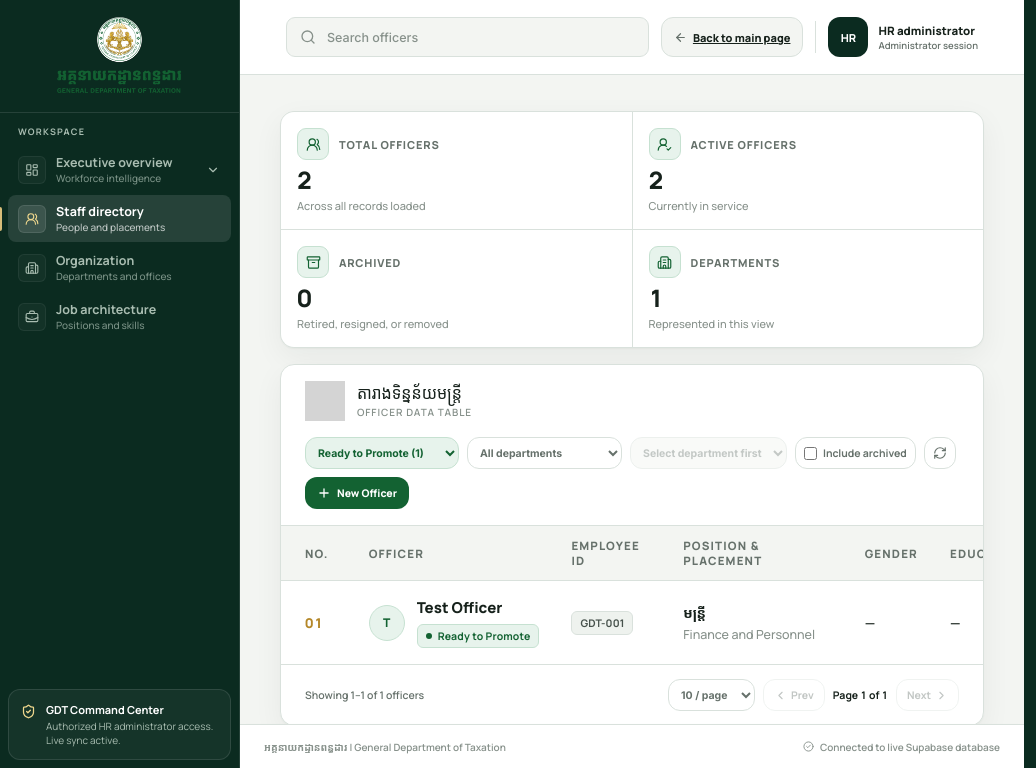
Test: Staff Directory › applies the Ready to Promote URL filter and can clear it
The image size is (1036, 768).
Expected: the text "Not Ready Officer" is not shown
Expected: the text "Test Officer" is shown, [417,597,502,618]
Select "All promotion statuses" in the dropdown named "Filter by promotion readiness": [382, 453] box [305,437,459,469]
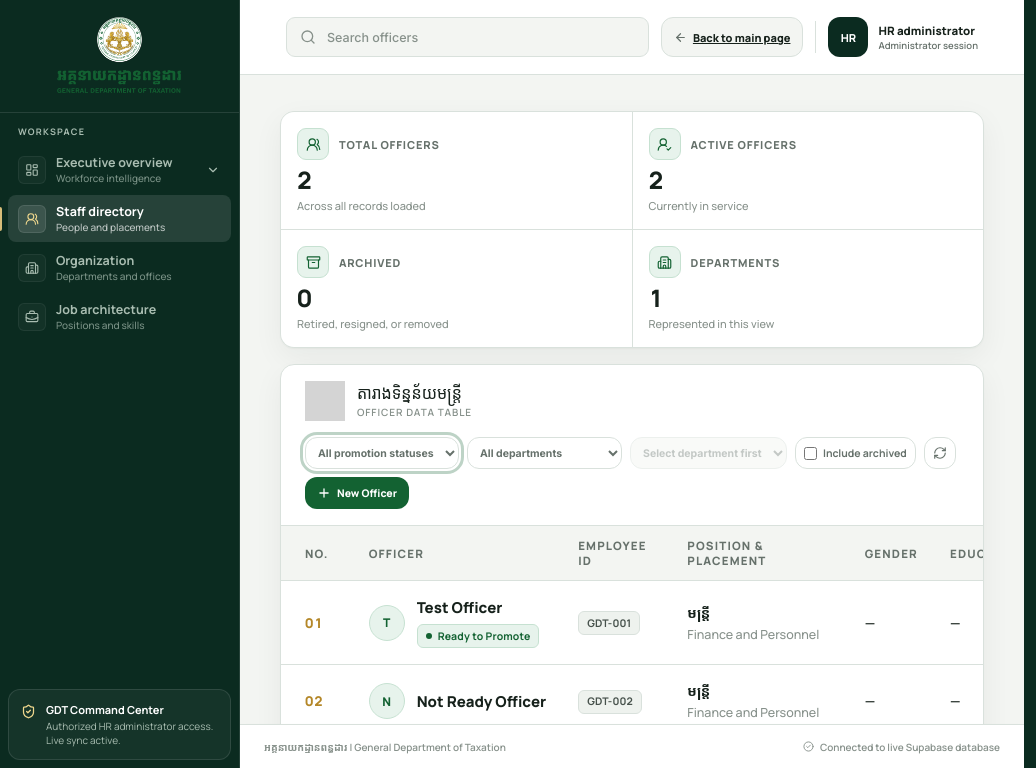
Expected: the text "Not Ready Officer" is shown, [417,690,546,712]
